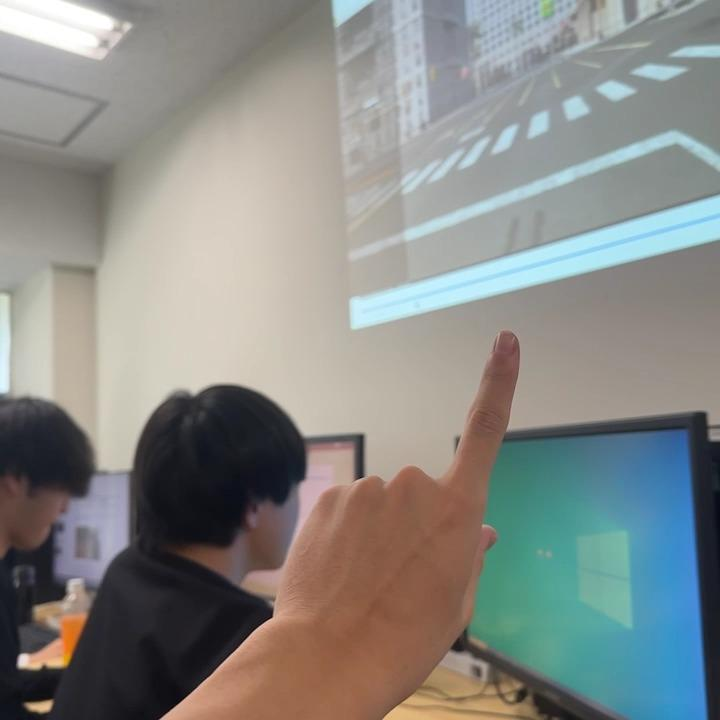without_gloves: (244, 284, 684, 695)
